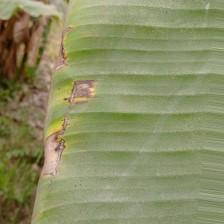cordana: (31, 0, 224, 224)
